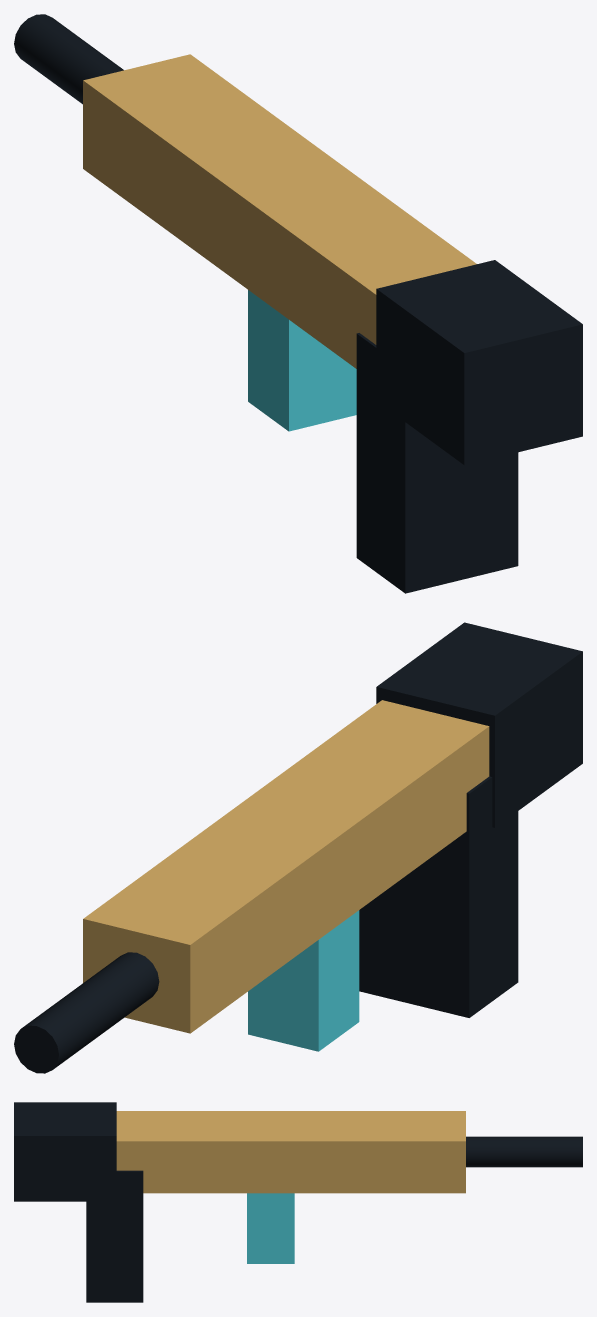
3 renders of one model, top to bottom at view 1: azimuth 30°, elevation 25°; view 2: azimuth 150°, elevation 25°; view 3: azimuth 270°, elevation 25°, orthographic. The views are drawn at different scales.
Parts seen in each view (by area): view 1: ar-weapon; view 2: ar-weapon; view 3: ar-weapon.
Boxes of the visible parts, x1,y1,x2,y2 form: ar-weapon: (14, 14, 582, 593); ar-weapon: (14, 622, 582, 1073); ar-weapon: (14, 1102, 582, 1302).
Size of the model in its own units: 0.42 by 0.97 by 2.99.
